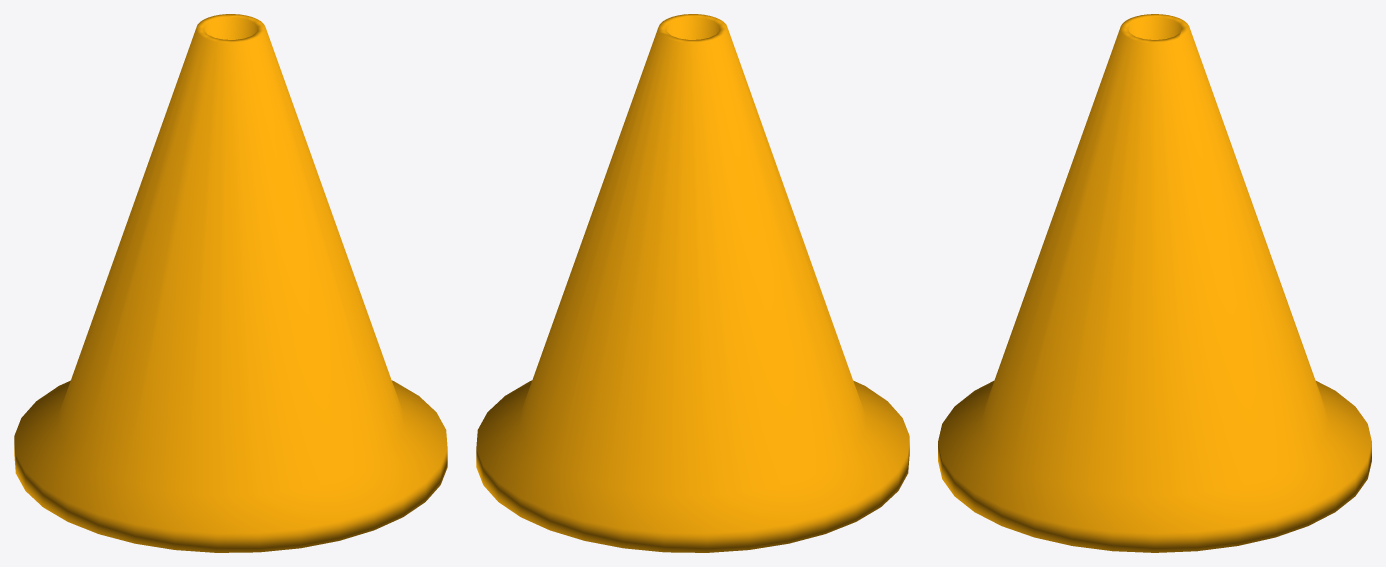
3 renders of one model, left to right at view 1: azimuth 30°, elevation 25°; view 2: azimuth 150°, elevation 25°; view 3: azimuth 270°, elevation 25°, orthographic.
Visible parts, largest first — view 1: Circle; view 2: Circle; view 3: Circle.
Part boxes in pixels (x1,y1,x2,y2): Circle: (14, 14, 447, 552); Circle: (476, 14, 909, 552); Circle: (938, 14, 1371, 552).
Size of the model in its own units: 2 by 2.2 by 2.
